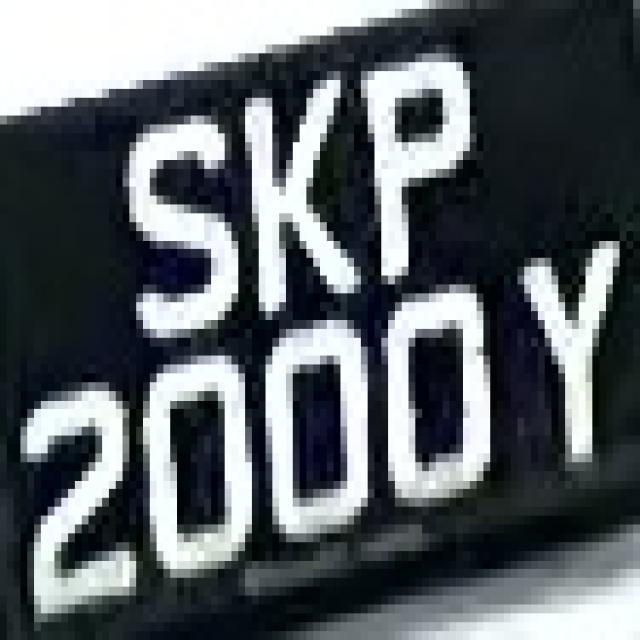0: (354, 267, 490, 542), (136, 320, 259, 596), (245, 329, 375, 587)
2: (20, 382, 150, 622)
K: (204, 44, 347, 294)
P: (327, 36, 490, 258)
S: (89, 80, 245, 356)
Y: (510, 213, 640, 497)
